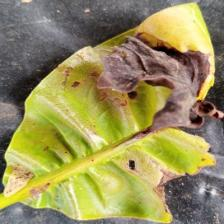leaf miner: (0, 1, 223, 223)
